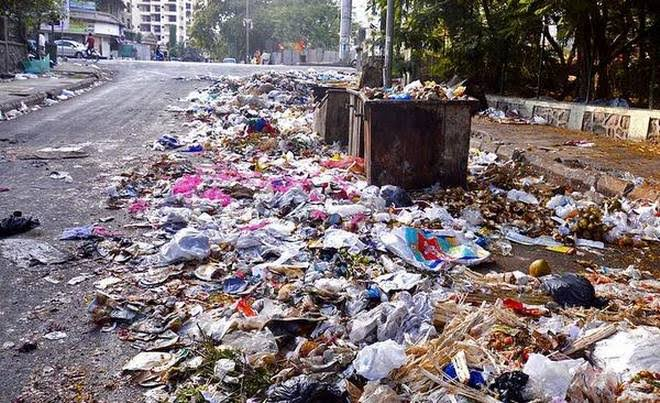garbage: (191, 196, 659, 403), (163, 135, 350, 403), (210, 73, 314, 401)
